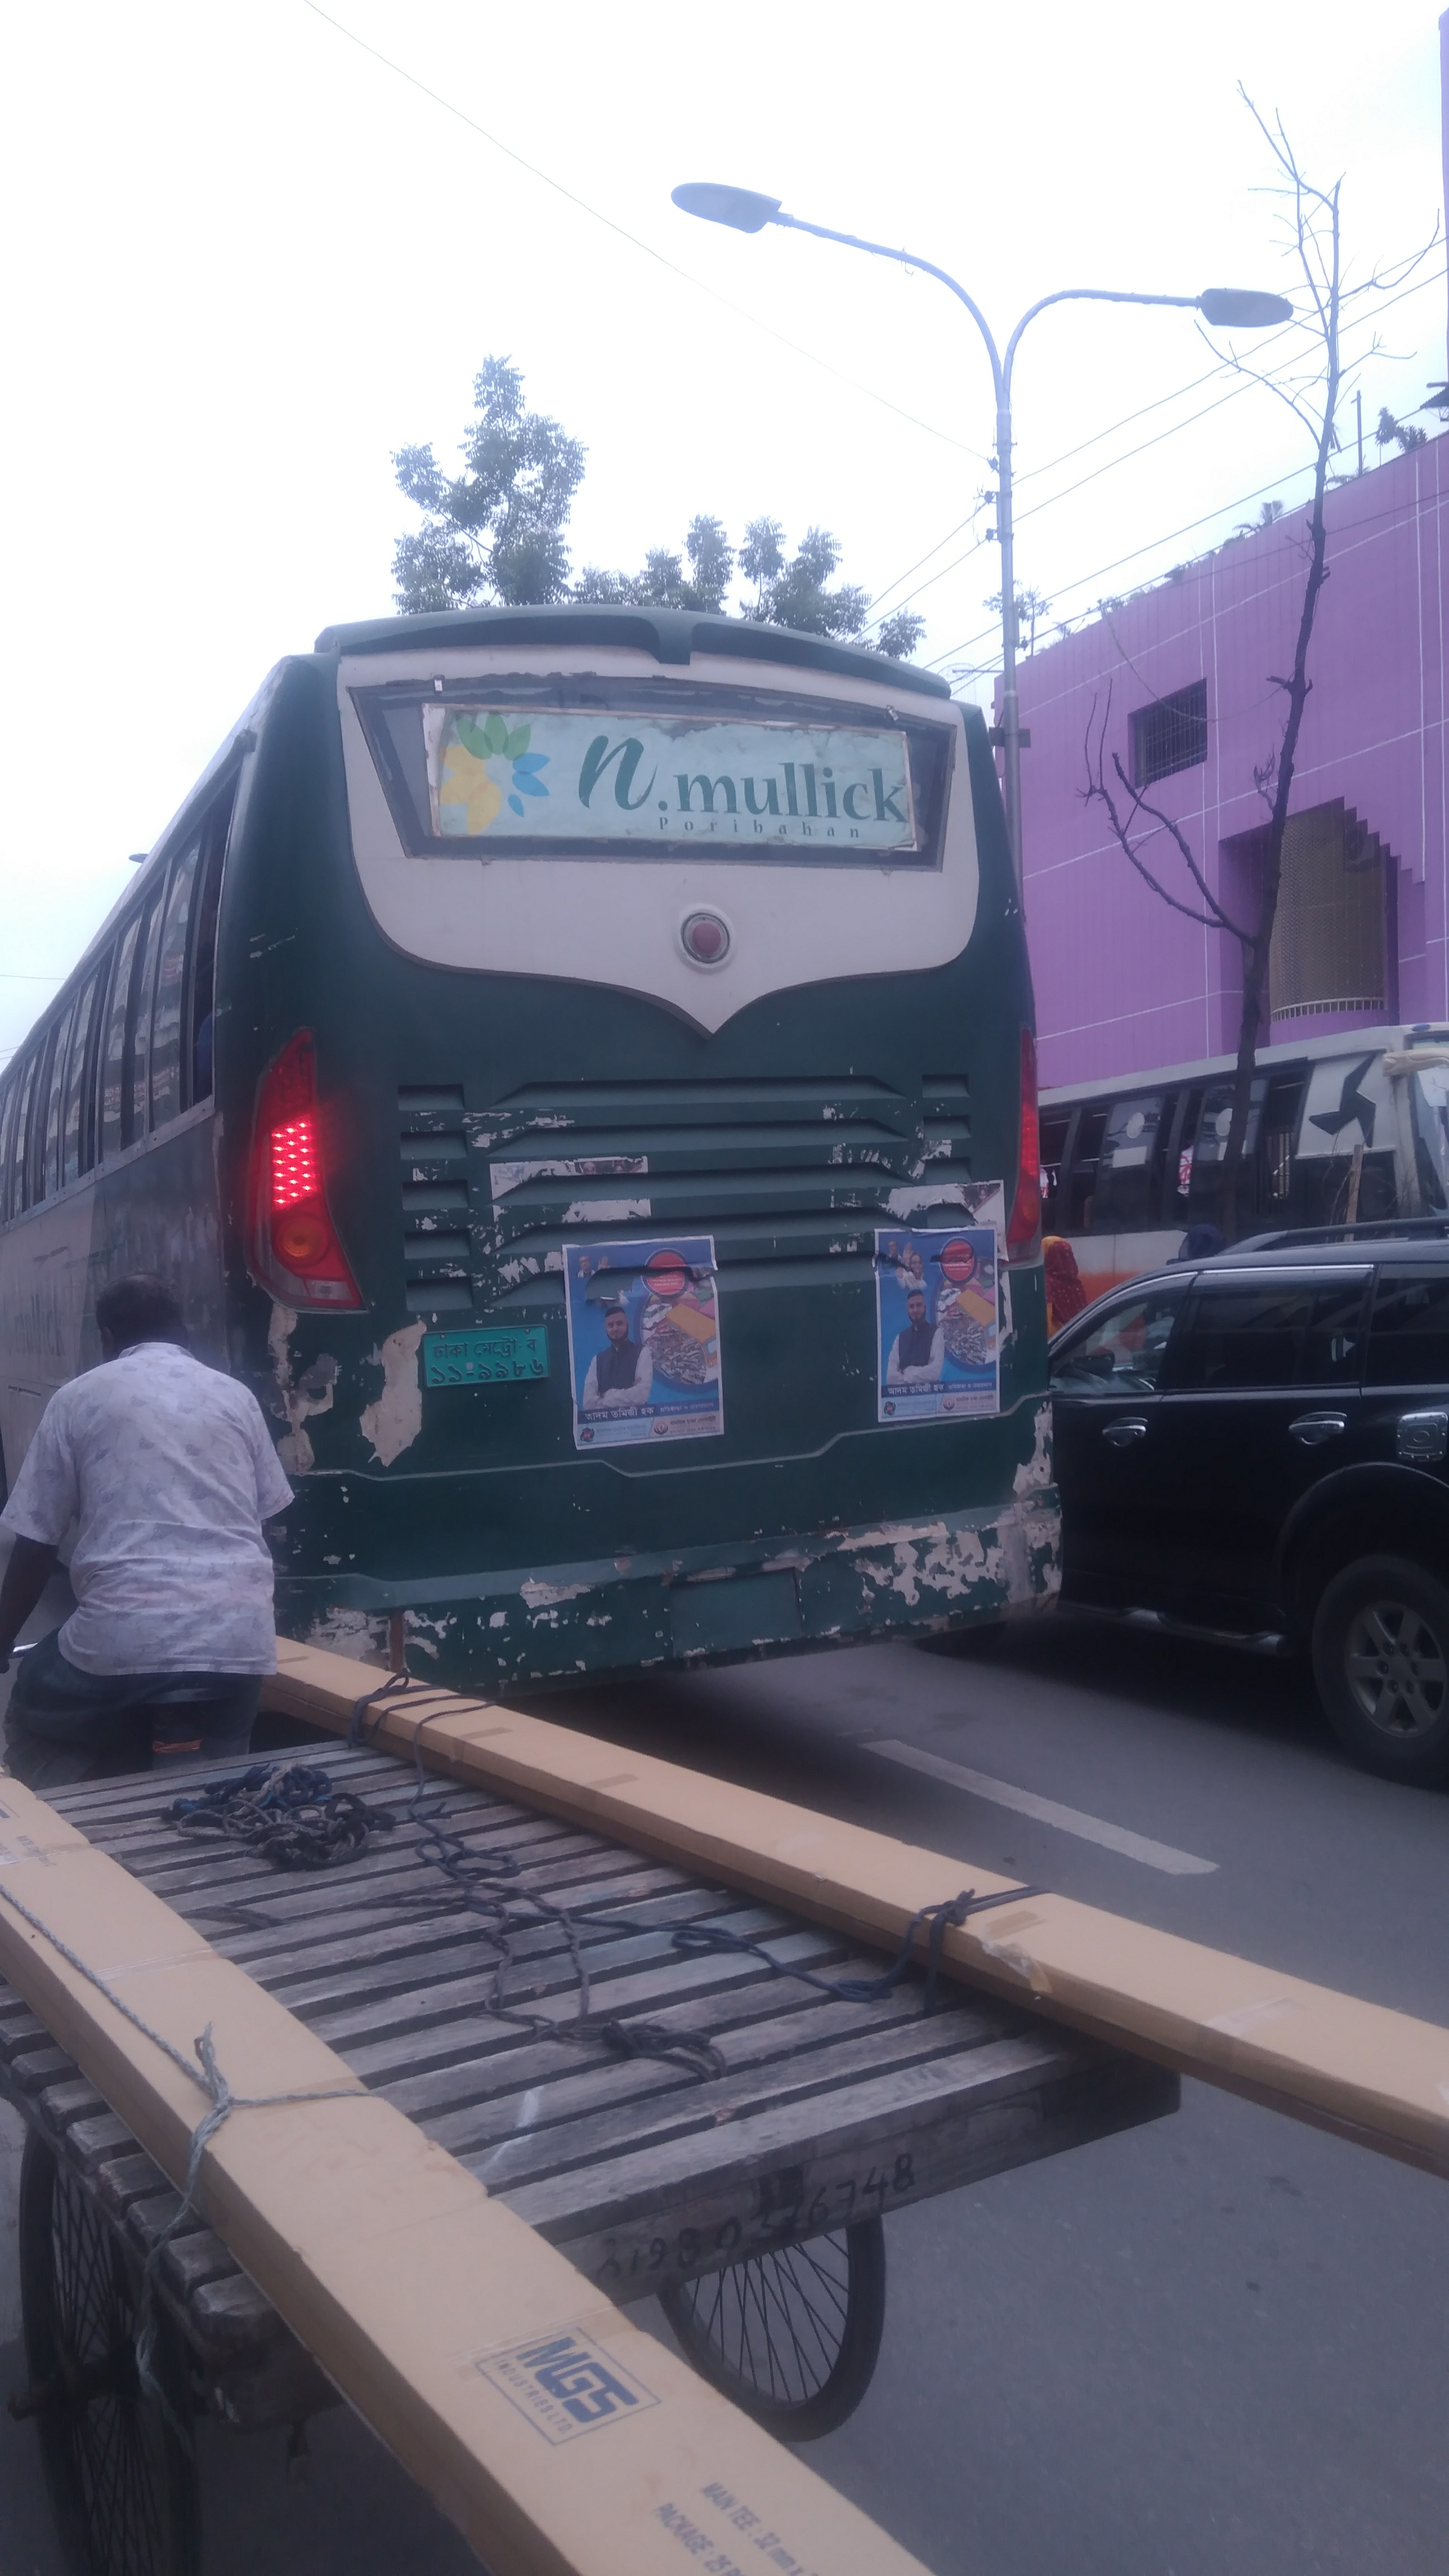bus: (0, 582, 1090, 1741), (1024, 987, 1447, 1410)
car: (1042, 1251, 1449, 1746)
van: (0, 1679, 1192, 2565)
